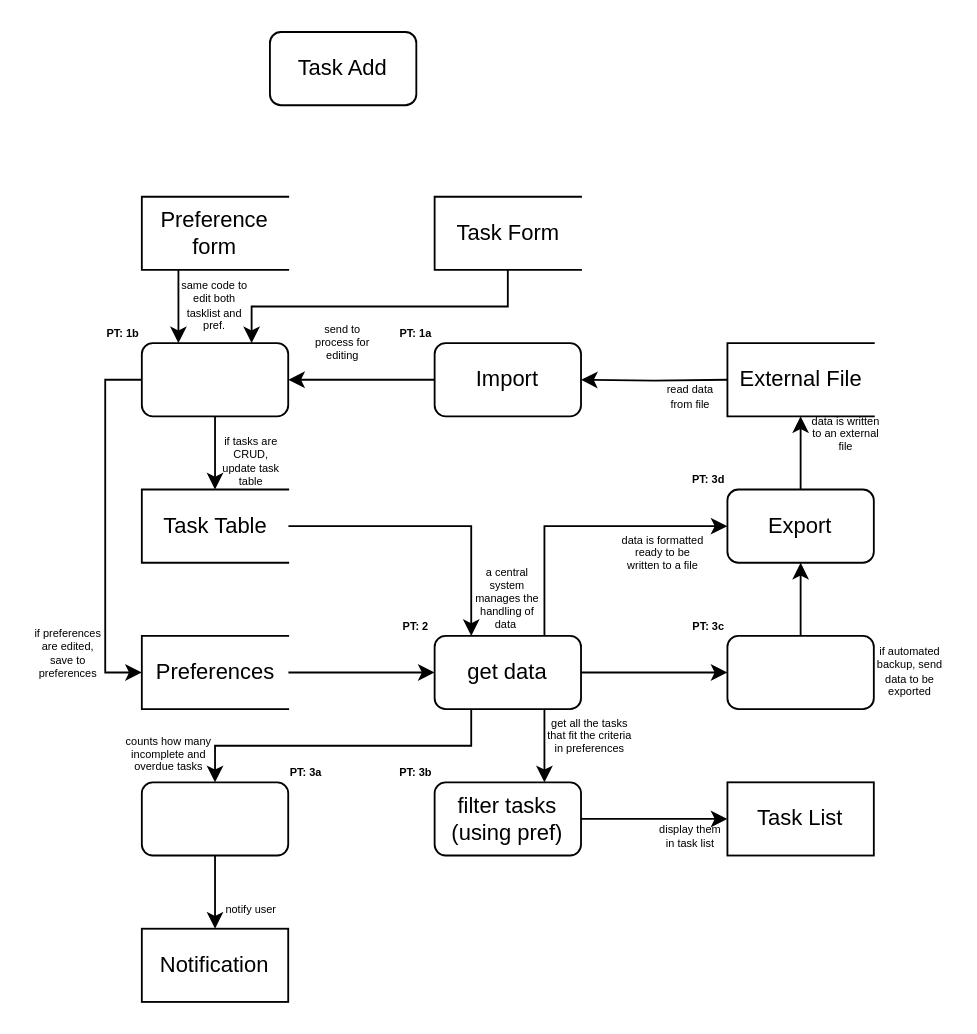
The diagram is 977 pixels wide and 1034 high, and some of its shapes have lost their labels. The shapes that lost their labels are listed below. From the top down, each one's box as (x1, y1, x2, y2) in pixels, then its label:
(140, 341, 288, 416): Create update del info
(726, 634, 874, 709): Backup
(140, 780, 288, 856): notif system
